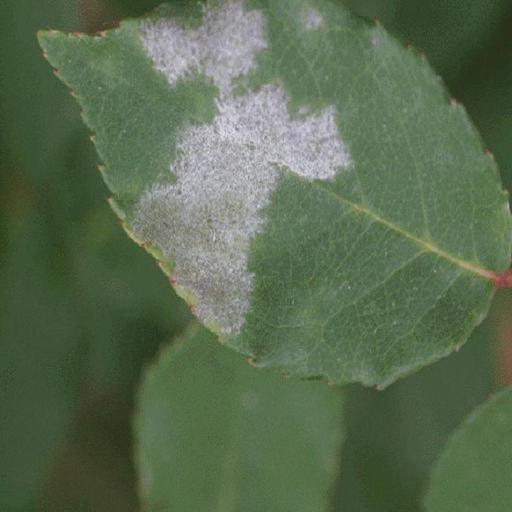powdery_mildew: (38, 0, 512, 387)
